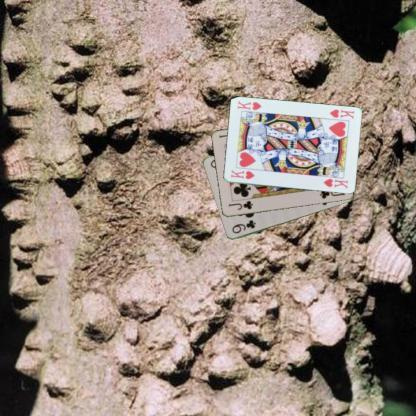9c: (230, 217, 257, 235)
Jc: (226, 198, 254, 212)
Kh: (228, 166, 256, 180), (327, 106, 355, 120)
